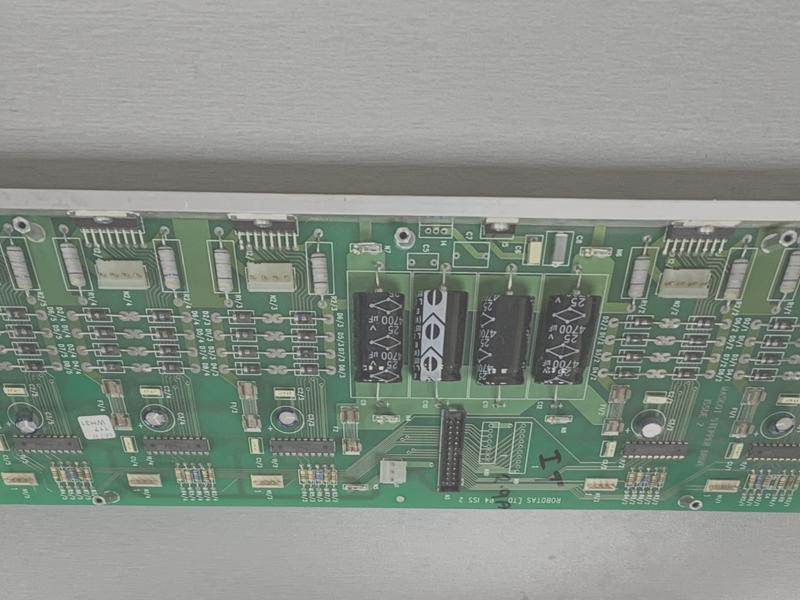Capacitor: (531, 284, 602, 389), (471, 288, 536, 387), (411, 284, 468, 386), (350, 284, 404, 389), (635, 412, 665, 441), (140, 406, 173, 431), (764, 413, 795, 439), (11, 409, 41, 434), (274, 407, 301, 432)
Diode: (768, 318, 797, 332), (627, 315, 655, 329), (90, 326, 117, 340), (293, 328, 318, 343), (231, 328, 257, 342), (237, 362, 263, 376), (291, 311, 317, 325), (84, 309, 111, 322), (98, 360, 125, 373), (613, 367, 640, 380), (620, 350, 647, 363), (622, 333, 649, 346), (156, 343, 181, 357), (1, 308, 30, 320), (755, 353, 784, 365), (21, 359, 45, 373), (676, 366, 700, 380), (762, 336, 790, 348), (148, 309, 173, 322), (685, 334, 710, 347), (8, 325, 35, 337), (228, 311, 254, 323), (691, 317, 715, 330), (680, 351, 704, 364), (749, 370, 777, 381), (14, 343, 39, 355), (297, 363, 320, 376), (97, 343, 121, 355), (153, 327, 177, 339), (234, 346, 258, 358), (294, 347, 317, 359), (159, 362, 183, 373)
Resistor: (2, 240, 39, 290), (56, 239, 90, 289), (155, 241, 186, 293), (720, 255, 751, 303), (773, 246, 800, 301), (210, 242, 237, 296), (623, 253, 653, 299), (308, 247, 332, 299), (761, 474, 771, 495), (745, 473, 756, 491), (206, 466, 216, 485), (775, 474, 785, 493), (58, 467, 68, 485), (182, 468, 192, 486), (190, 468, 200, 486), (330, 467, 339, 487), (657, 471, 666, 491), (66, 467, 77, 483), (82, 467, 93, 483), (200, 467, 209, 486), (173, 467, 183, 484), (322, 466, 330, 487), (48, 467, 59, 482), (306, 468, 315, 486), (315, 467, 323, 486), (75, 467, 84, 483), (754, 475, 763, 491), (298, 468, 306, 485), (649, 473, 657, 490), (635, 470, 642, 489), (626, 471, 633, 489), (642, 471, 649, 489)
